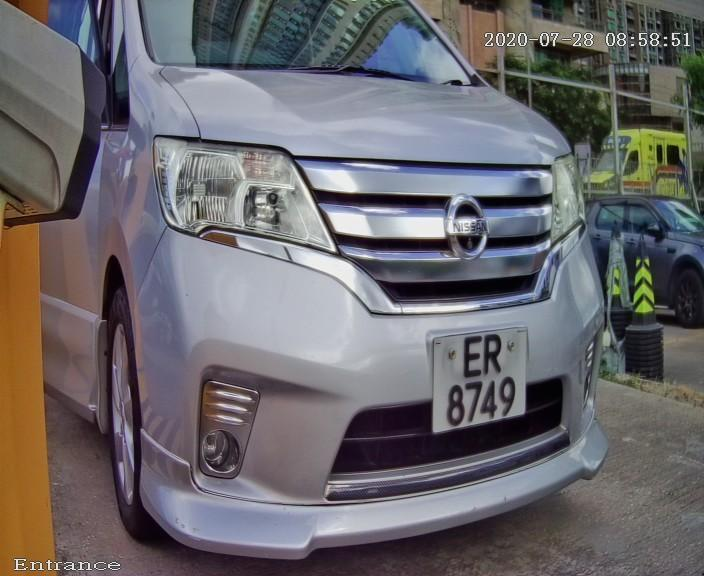privatecar: (41, 11, 670, 566)
